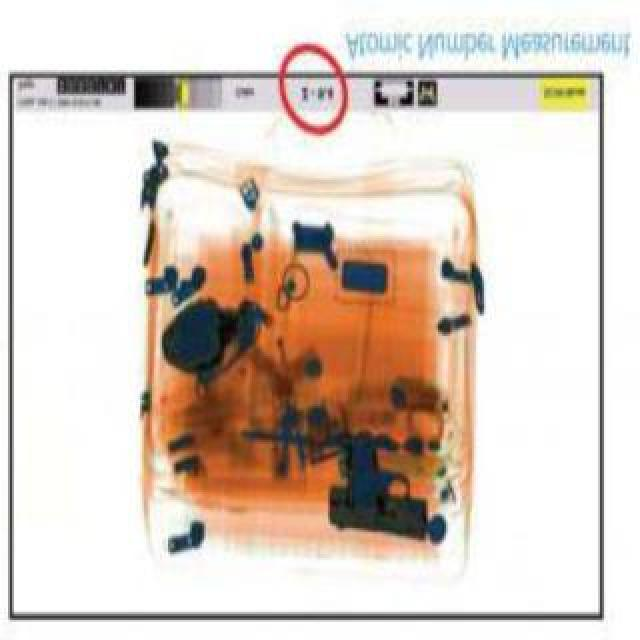gun: (322, 456, 430, 548)
